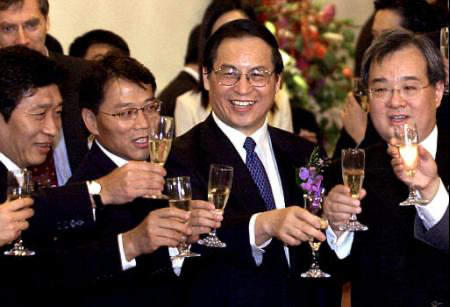Face: (366, 58, 436, 149), (206, 45, 274, 131), (9, 91, 68, 166), (101, 90, 162, 161), (0, 9, 52, 62)
